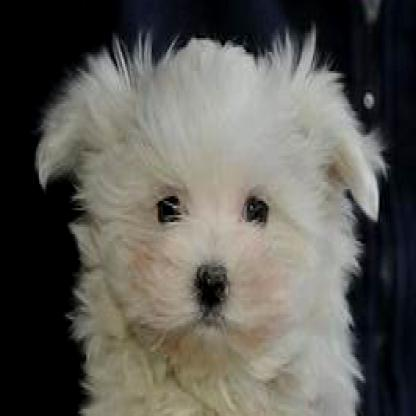dog: (32, 28, 386, 414)
